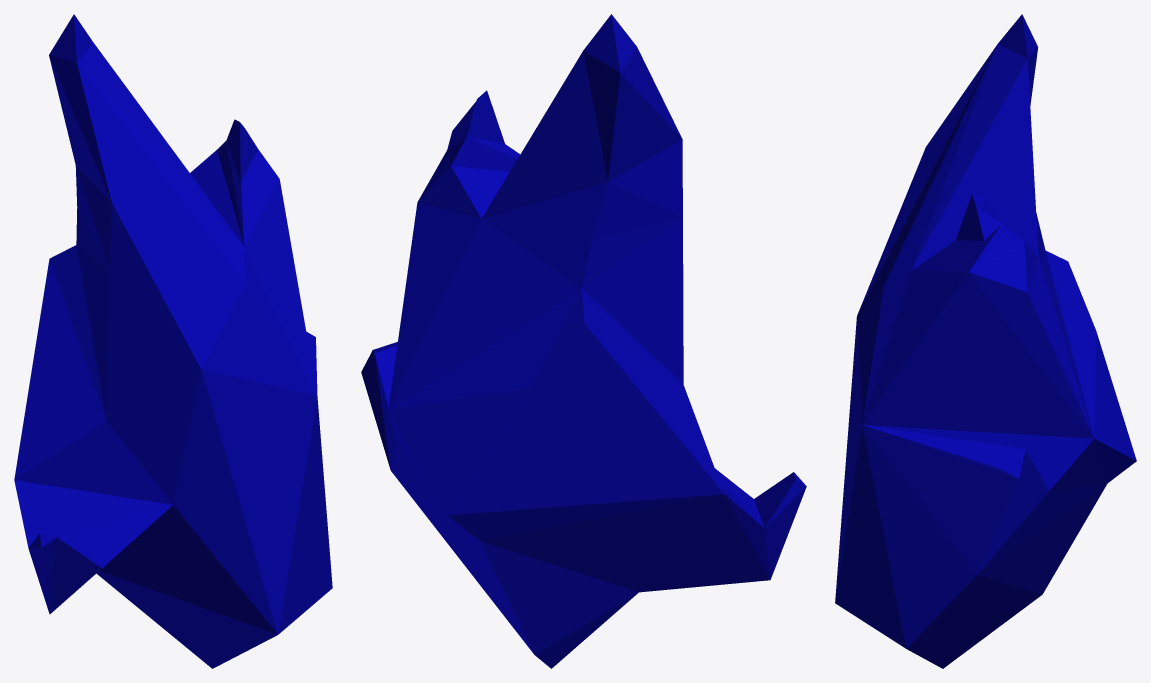
The model's file is ammo_A.FBX.
The picture shows the model from 3 angles, left to right: view 1: azimuth 30°, elevation 25°; view 2: azimuth 150°, elevation 25°; view 3: azimuth 270°, elevation 25°; orthographic projection. The views are drawn at different scales.
Visible parts, largest first — view 1: ammo_A; view 2: ammo_A; view 3: ammo_A.
Part boxes in pixels (<box>): ammo_A: <box>14,14,332,668</box>; ammo_A: <box>361,14,806,668</box>; ammo_A: <box>835,14,1136,668</box>.
Size of the model in its own units: 9.65 by 17.9 by 8.02.
